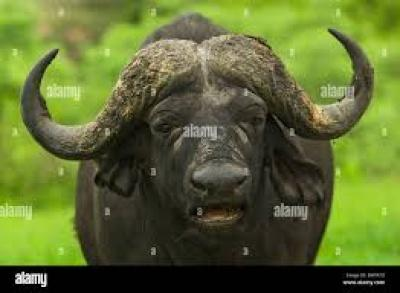buffalo: (20, 30, 375, 267)
